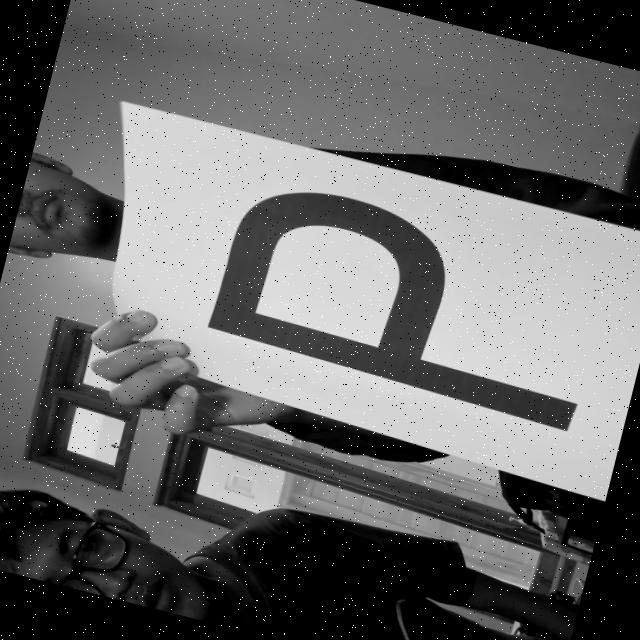p: (188, 164, 640, 449)
